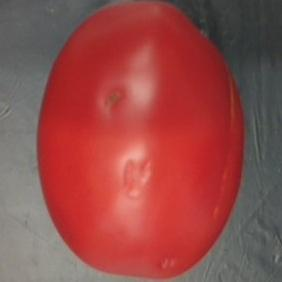unripe: (32, 0, 253, 282)
